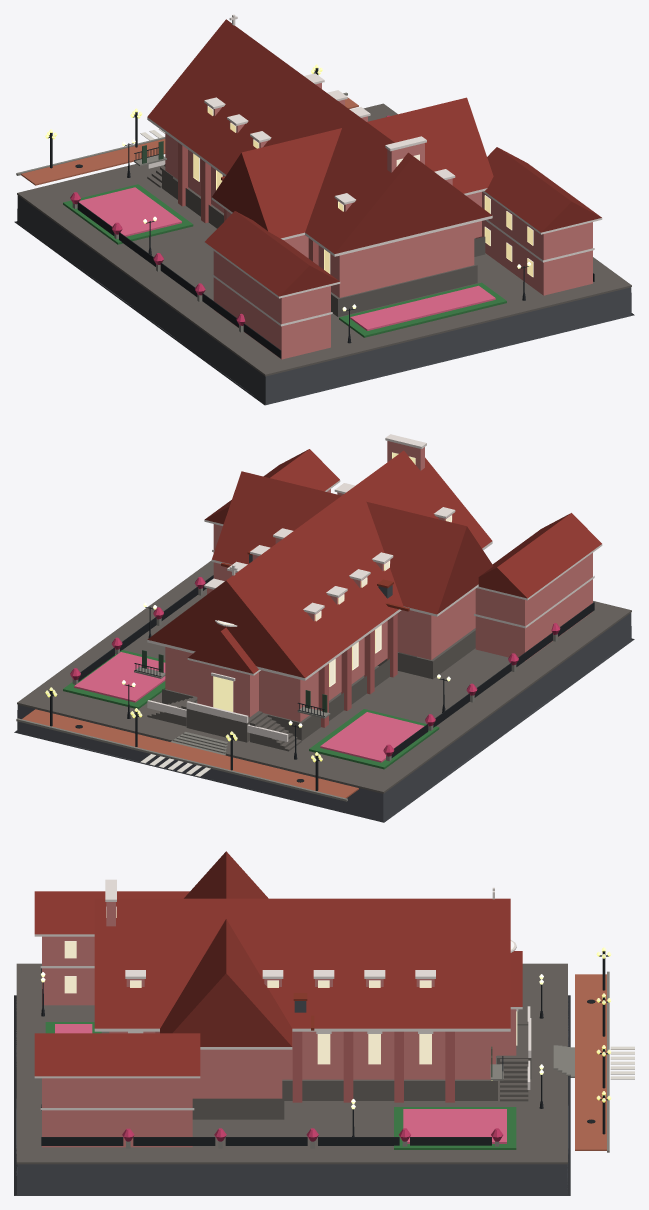
File: lm_10_domaine_de_marie.glb
3 views of the same model, one above another, from view 1: azimuth 30°, elevation 25°; view 2: azimuth 150°, elevation 25°; view 3: azimuth 270°, elevation 25° (orthographic). The views are drawn at different scales.
Visible parts, largest first — view 1: Domaine_Rong_Main_Roof, Domaine_Rose_Limewash_Walls, Foundation_Plinth_Trim, Foundation_Skirt, Domaine_Transept_Cross_Roof, Domaine_Cloister_Roof_W, Domaine_Garden_Blossoms, Domaine_Cloister_Roof_E, Domaine_Stone_Plinth, Domaine_Cloister_Garden, Domaine_Cream_Moldings, Phase2_Interlocking_Brick_Sidewalk (+5 smaller); view 2: Domaine_Rong_Main_Roof, Foundation_Plinth_Trim, Domaine_Rose_Limewash_Walls, Domaine_Transept_Cross_Roof, Foundation_Skirt, Domaine_Stone_Plinth, Domaine_Garden_Blossoms, Domaine_Cloister_Roof_W, Phase2_Interlocking_Brick_Sidewalk, Domaine_Cream_Moldings, Phase2_WroughtIron_Balconies_Railings_Manholes, Phase2_Granite_Curb_And_Entry_Steps (+7 smaller); view 3: Domaine_Rong_Main_Roof, Foundation_Plinth_Trim, Domaine_Rose_Limewash_Walls, Foundation_Skirt, Domaine_Transept_Cross_Roof, Domaine_Stone_Plinth, Domaine_Cloister_Roof_E, Phase2_Interlocking_Brick_Sidewalk, Phase2_WroughtIron_Balconies_Railings_Manholes, Domaine_Cloister_Roof_W, Domaine_Garden_Blossoms, Domaine_Sloped_Buttresses (+9 smaller).
Part boxes in pixels (x1,y1,x2,y2): Domaine_Rong_Main_Roof: [147, 19, 491, 253]; Domaine_Rose_Limewash_Walls: [165, 83, 592, 359]; Foundation_Plinth_Trim: [17, 103, 631, 376]; Foundation_Skirt: [14, 195, 634, 405]; Domaine_Transept_Cross_Roof: [212, 97, 493, 238]; Domaine_Cloister_Roof_W: [205, 211, 339, 296]; Domaine_Garden_Blossoms: [79, 187, 495, 330]; Domaine_Cloister_Roof_E: [484, 147, 601, 232]; Domaine_Stone_Plinth: [147, 164, 485, 316]; Domaine_Cloister_Garden: [63, 184, 506, 337]; Domaine_Cream_Moldings: [147, 14, 594, 326]; Phase2_Interlocking_Brick_Sidewalk: [21, 97, 358, 185]; Domaine_Rong_Main_Roof: [147, 450, 492, 677]; Foundation_Plinth_Trim: [17, 560, 631, 793]; Domaine_Rose_Limewash_Walls: [165, 441, 592, 721]; Domaine_Transept_Cross_Roof: [212, 471, 493, 614]; Foundation_Skirt: [14, 613, 634, 822]; Domaine_Stone_Plinth: [147, 630, 475, 751]; Domaine_Garden_Blossoms: [74, 652, 424, 762]; Domaine_Cloister_Roof_W: [478, 513, 601, 598]; Phase2_Interlocking_Brick_Sidewalk: [22, 709, 358, 798]; Domaine_Cream_Moldings: [147, 434, 594, 741]; Phase2_WroughtIron_Balconies_Railings_Manholes: [50, 575, 594, 790]; Phase2_Granite_Curb_And_Entry_Steps: [16, 588, 557, 801]; Domaine_Rong_Main_Roof: [94, 898, 510, 1028]; Foundation_Plinth_Trim: [16, 963, 567, 1164]; Domaine_Rose_Limewash_Walls: [42, 902, 516, 1147]; Foundation_Skirt: [14, 995, 570, 1195]; Domaine_Transept_Cross_Roof: [160, 851, 292, 1046]; Domaine_Stone_Plinth: [192, 1021, 531, 1119]; Domaine_Cloister_Roof_E: [34, 1033, 200, 1076]; Phase2_Interlocking_Brick_Sidewalk: [575, 974, 606, 1150]; Phase2_WroughtIron_Balconies_Railings_Manholes: [41, 951, 608, 1145]; Domaine_Cloister_Roof_W: [34, 891, 189, 934]; Domaine_Garden_Blossoms: [55, 1024, 506, 1143]; Domaine_Sloped_Buttresses: [155, 1031, 454, 1102].
Size of the model in its own units: 46.62 by 22.5 by 61.04.
